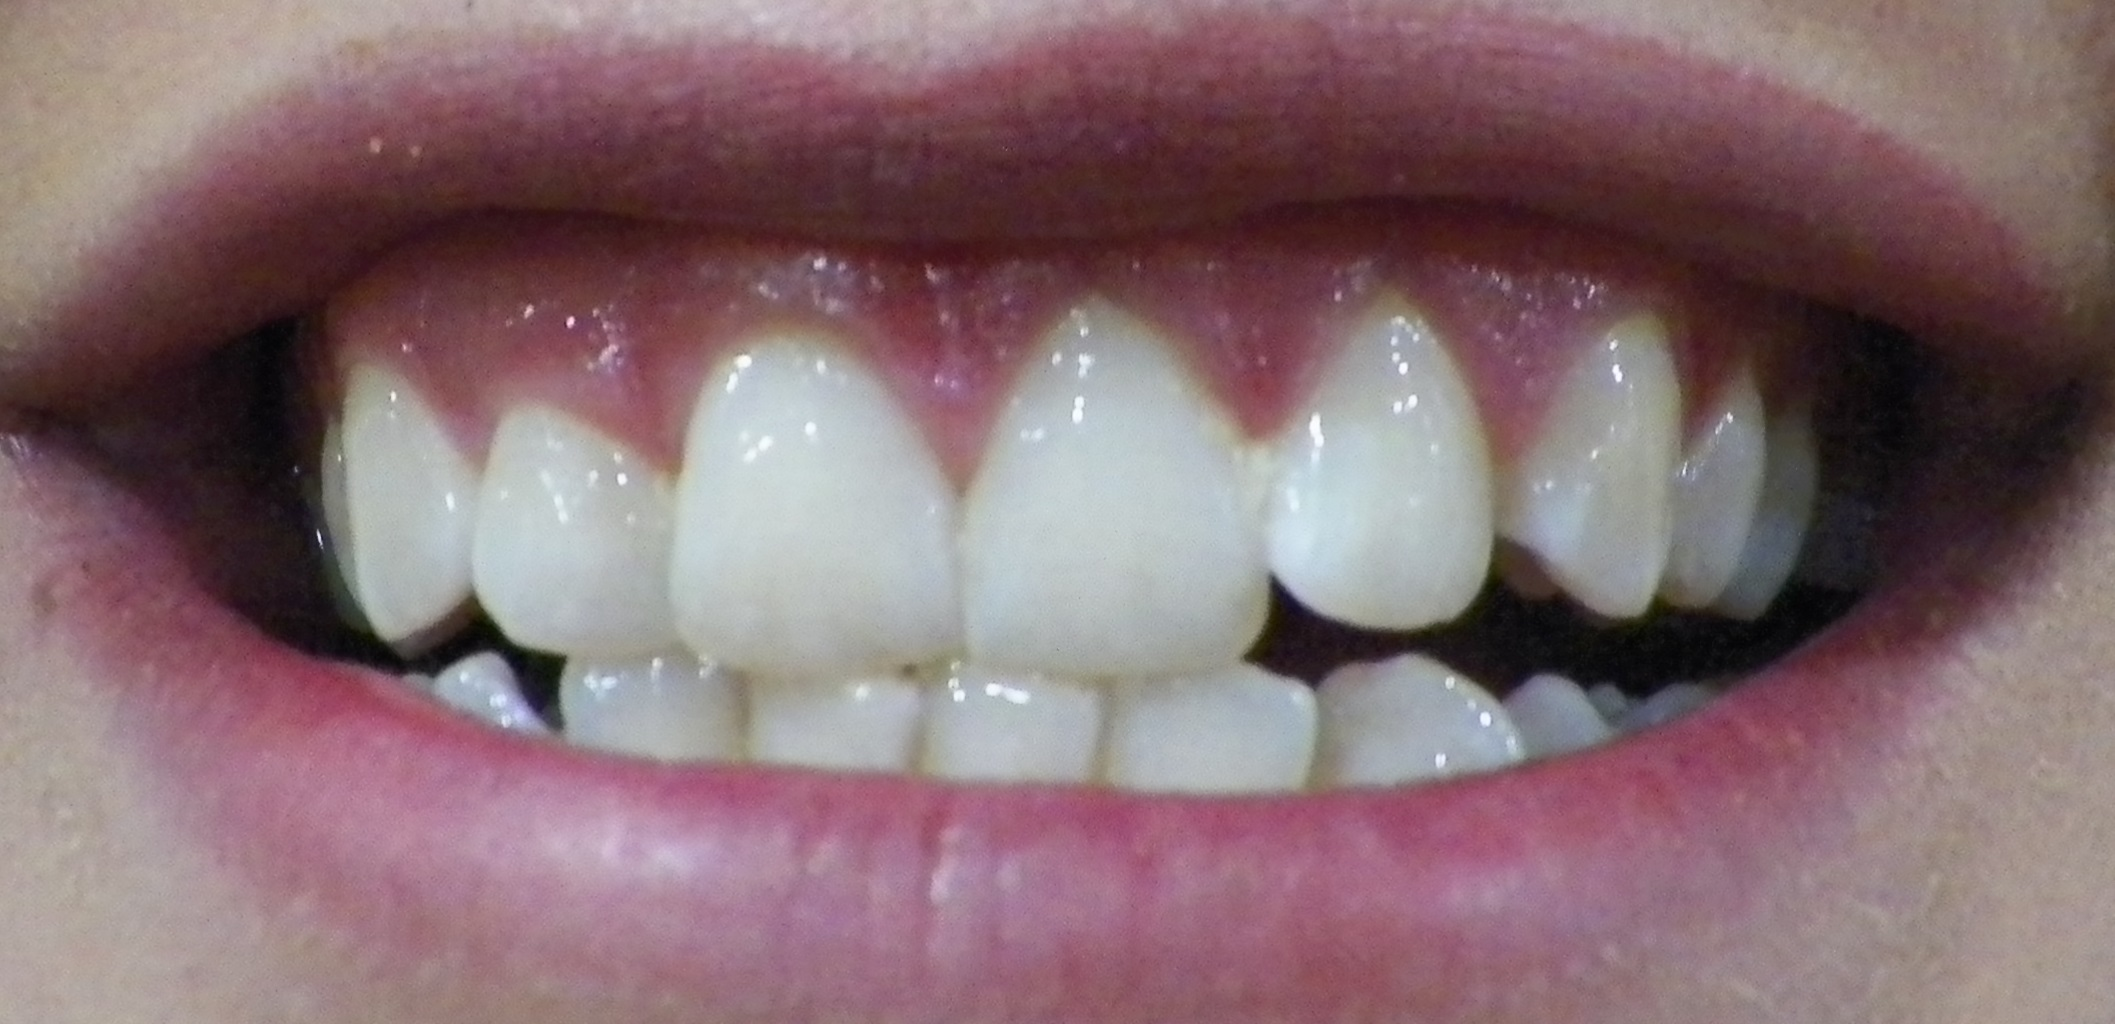boca: (290, 306, 1857, 800)
